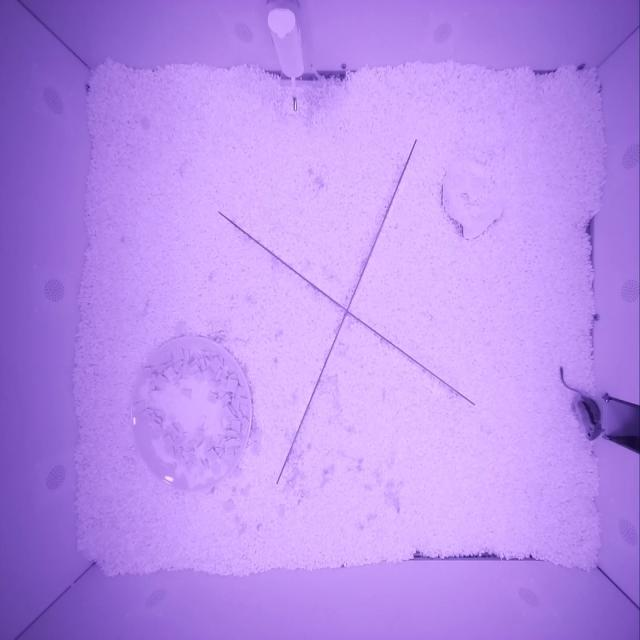pup_v_stripe: (573, 394, 607, 441)
